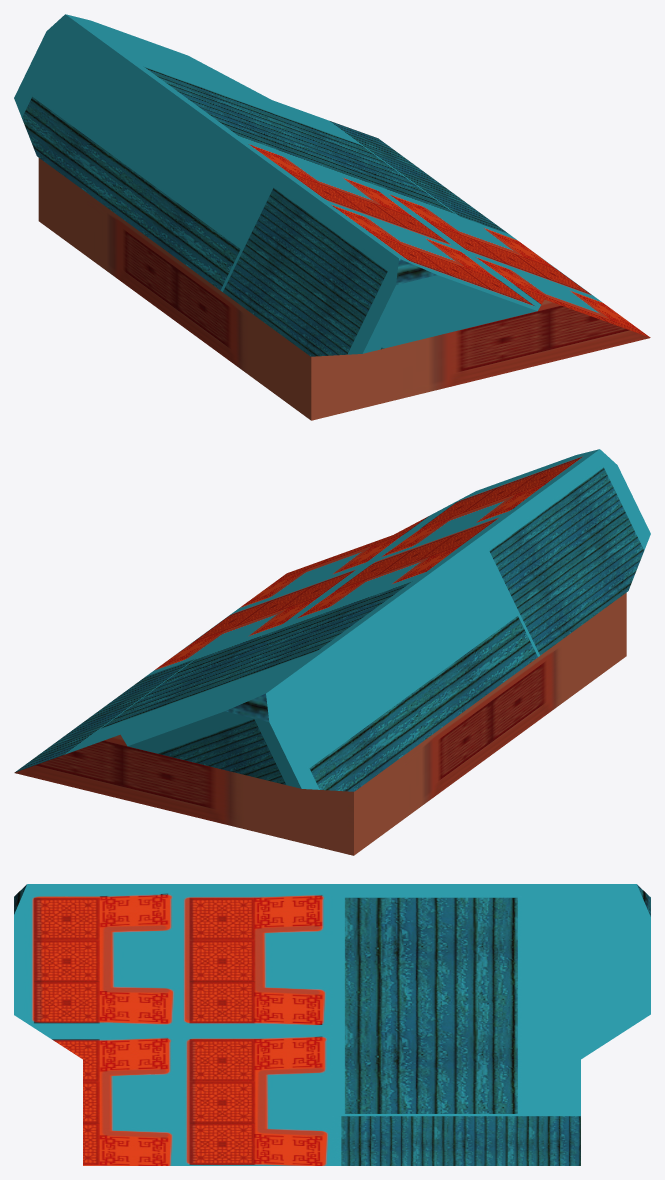
Rendered from borkertower04.FBX.
3 renders of one model, top to bottom at view 1: azimuth 30°, elevation 25°; view 2: azimuth 150°, elevation 25°; view 3: azimuth 270°, elevation 25°, orthographic. The views are drawn at different scales.
Visible parts, largest first — view 1: Box008; view 2: Box008; view 3: Box008.
Part boxes in pixels (x1,y1,x2,y2): Box008: (14,14,650,420); Box008: (14,449,650,855); Box008: (14,884,650,1165).
Size of the model in its own units: 32.72 by 15.66 by 58.01.
